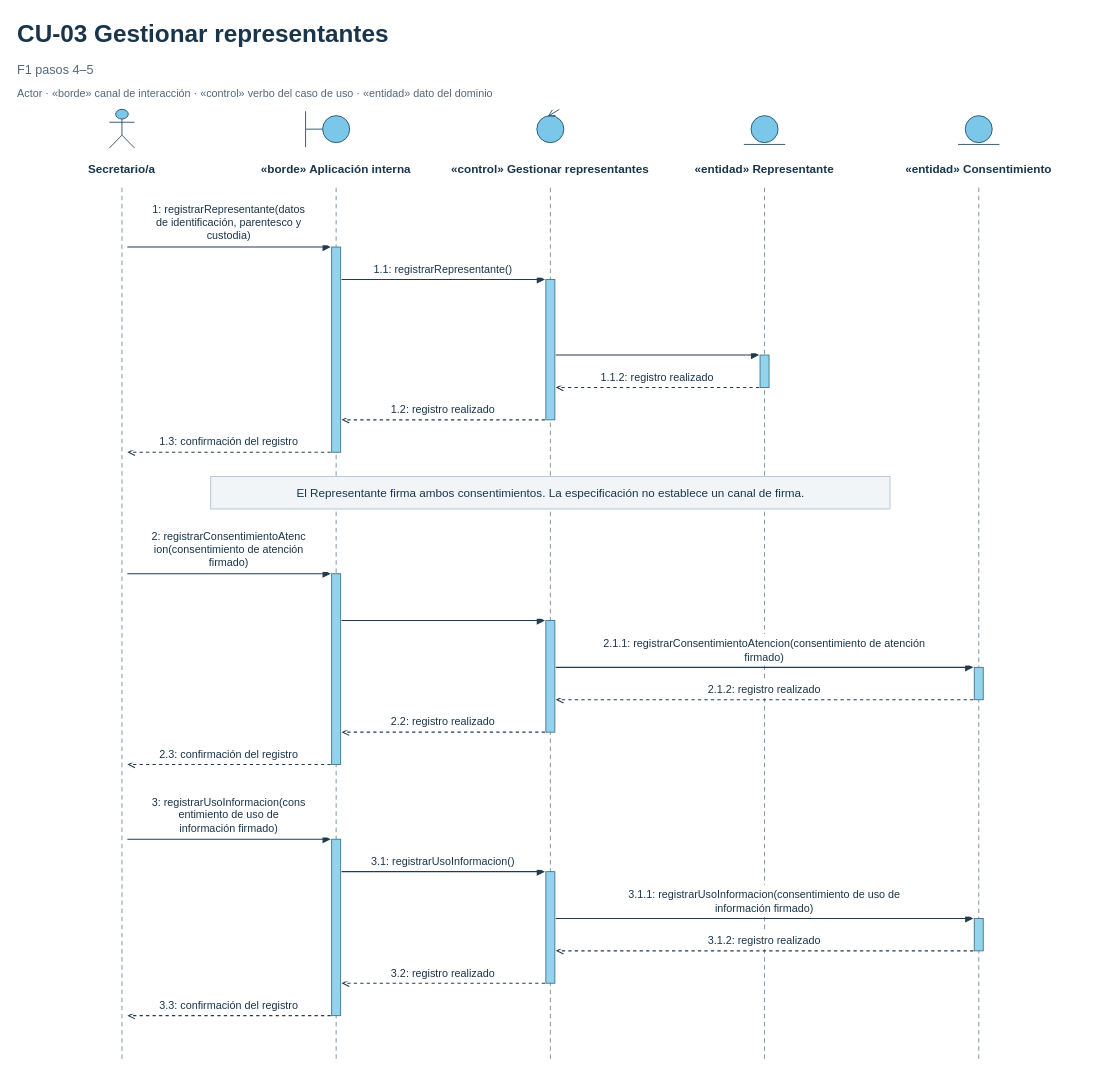
Image size: 1100x1079. Some labels were removed from this diagram. The box of each missing label's shape, as (x1, y1, x2, y2) in pixels:
1.1.1: registrarRepresentante(datos de identificación, parentesco y custodia): (559, 292, 755, 353)
2.1: registrarConsentimientoAte ncion(): (345, 587, 541, 618)
